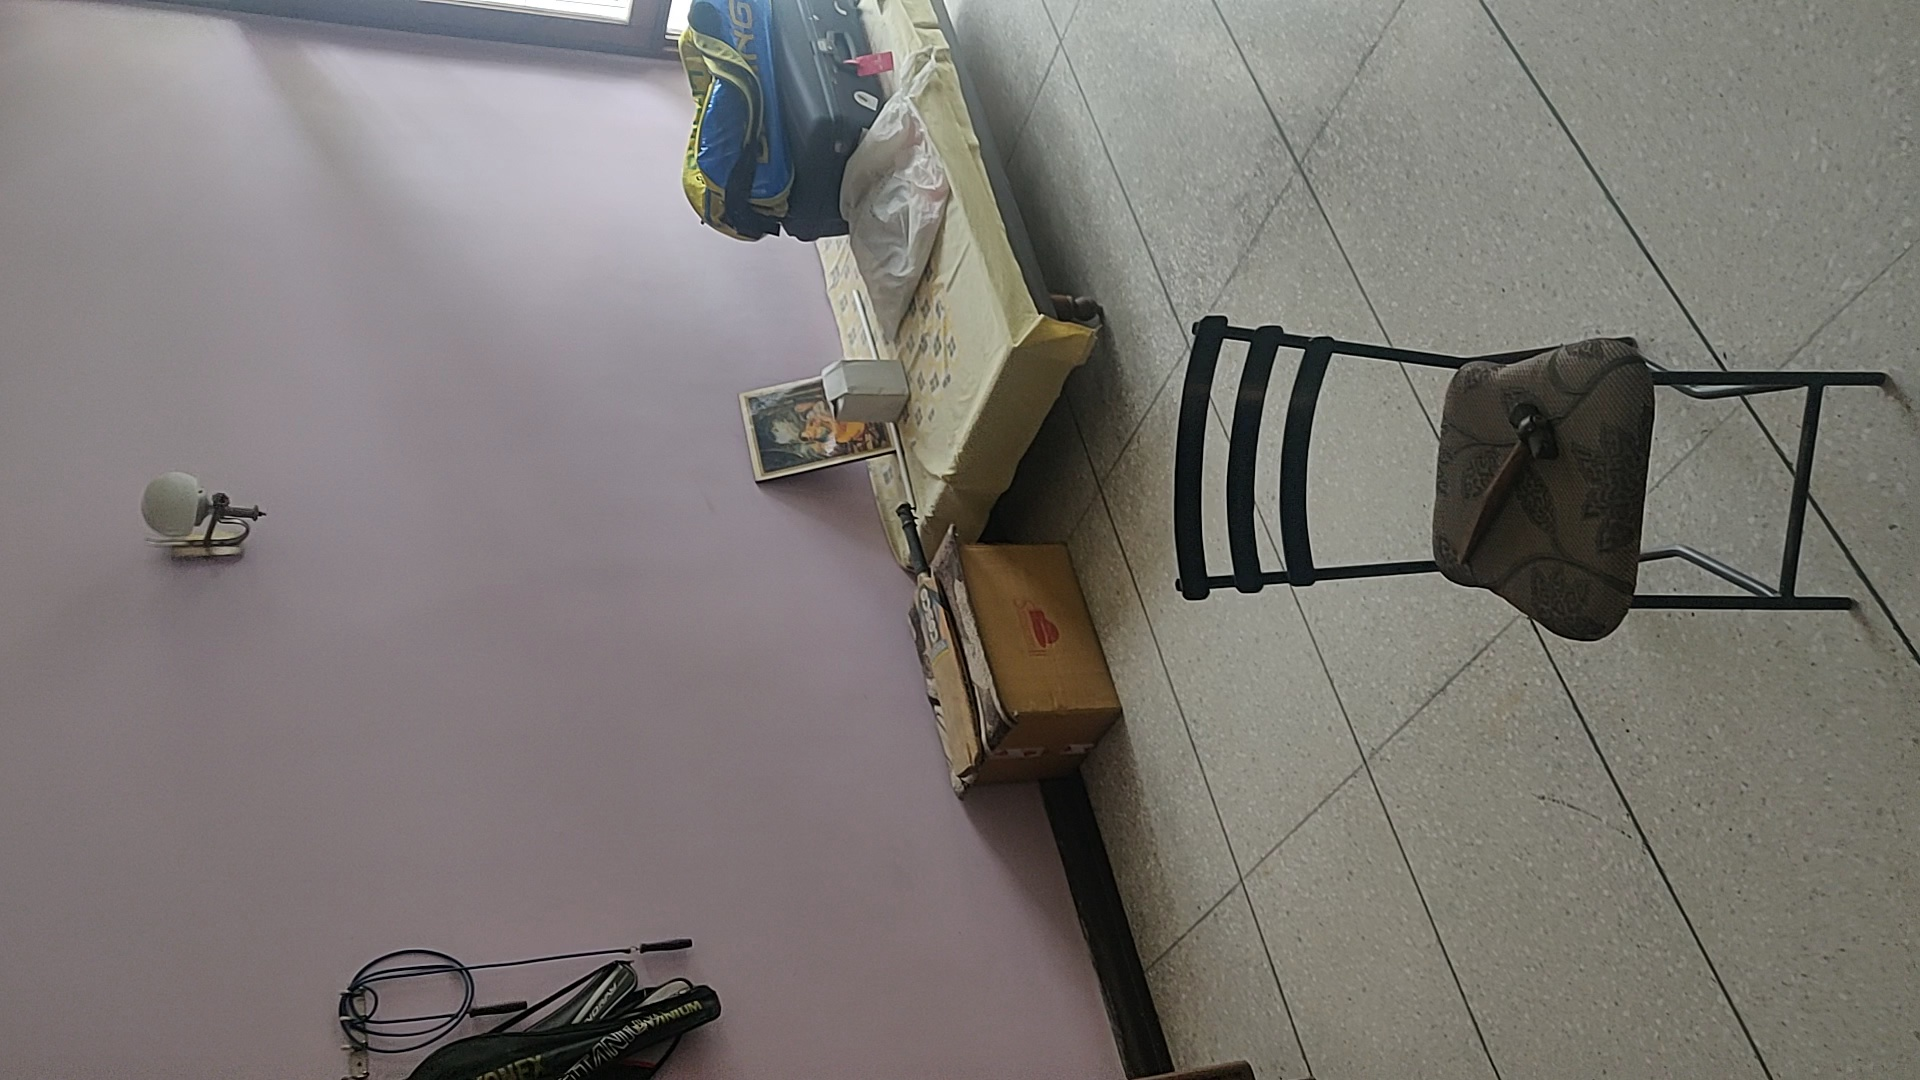hammer: (1458, 400, 1557, 560)
